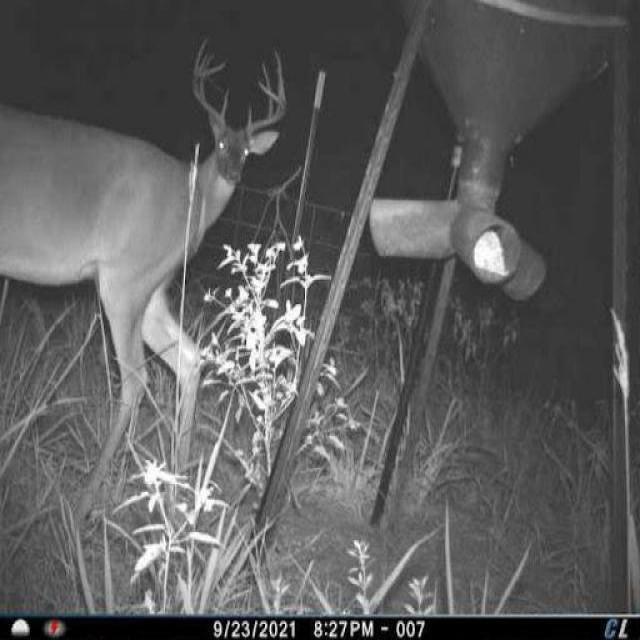deer: (4, 32, 295, 539)
